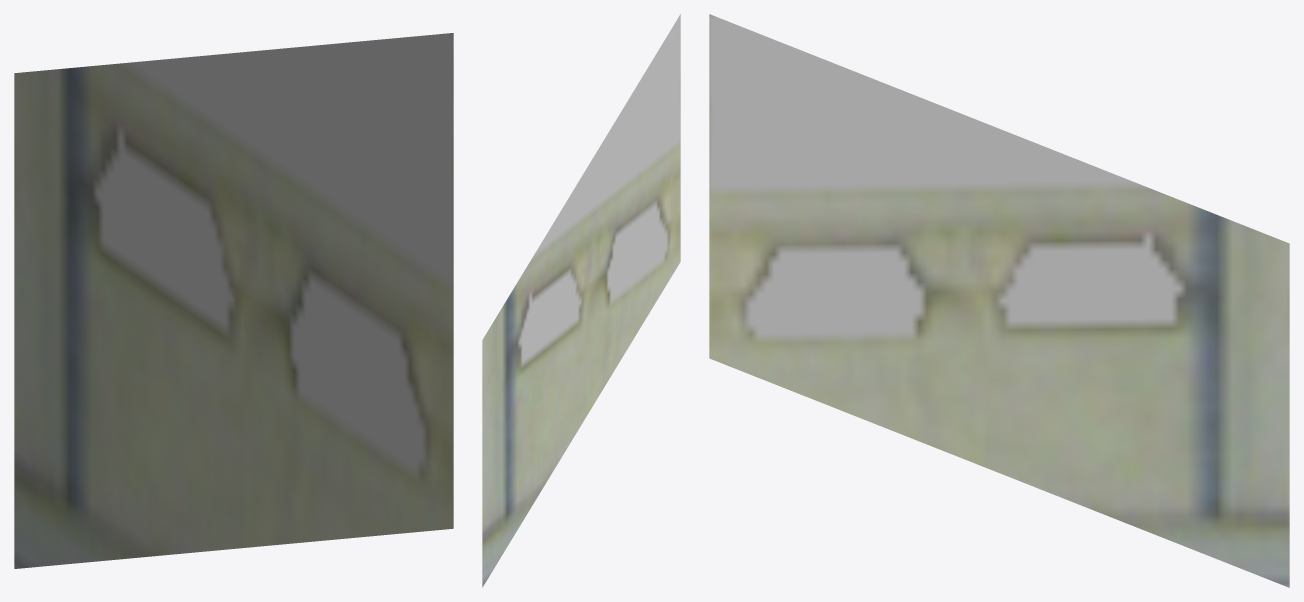
Rendered from 人民英雄纪念碑30.dae.
The picture shows the model from 3 angles, left to right: view 1: azimuth 30°, elevation 25°; view 2: azimuth 150°, elevation 25°; view 3: azimuth 270°, elevation 25°; orthographic projection. The views are drawn at different scales.
Visible parts, largest first — view 1: SketchUp; view 2: SketchUp; view 3: SketchUp.
Part boxes in pixels (box(x1,y1,x2,y2)): SketchUp: box(14, 33, 453, 568); SketchUp: box(482, 14, 680, 587); SketchUp: box(709, 14, 1289, 587).
Bounding box in the file's own units: 2.5 × 84.18 × 93.02.
